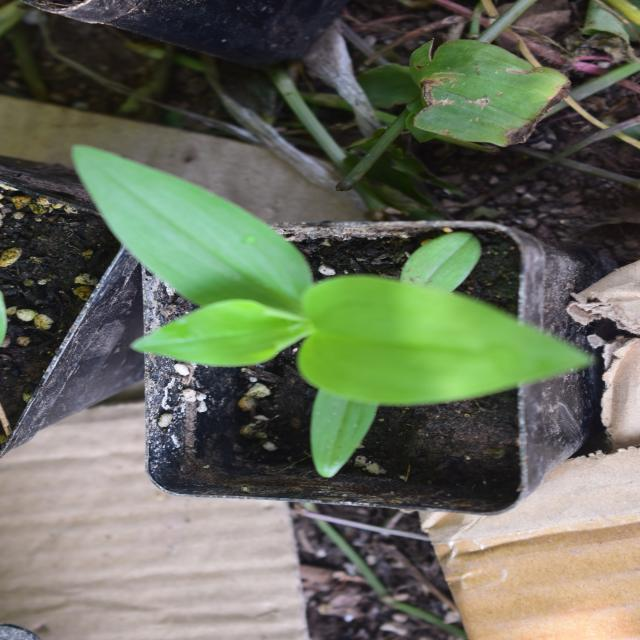Common Dayflower: (220, 58, 486, 555)
